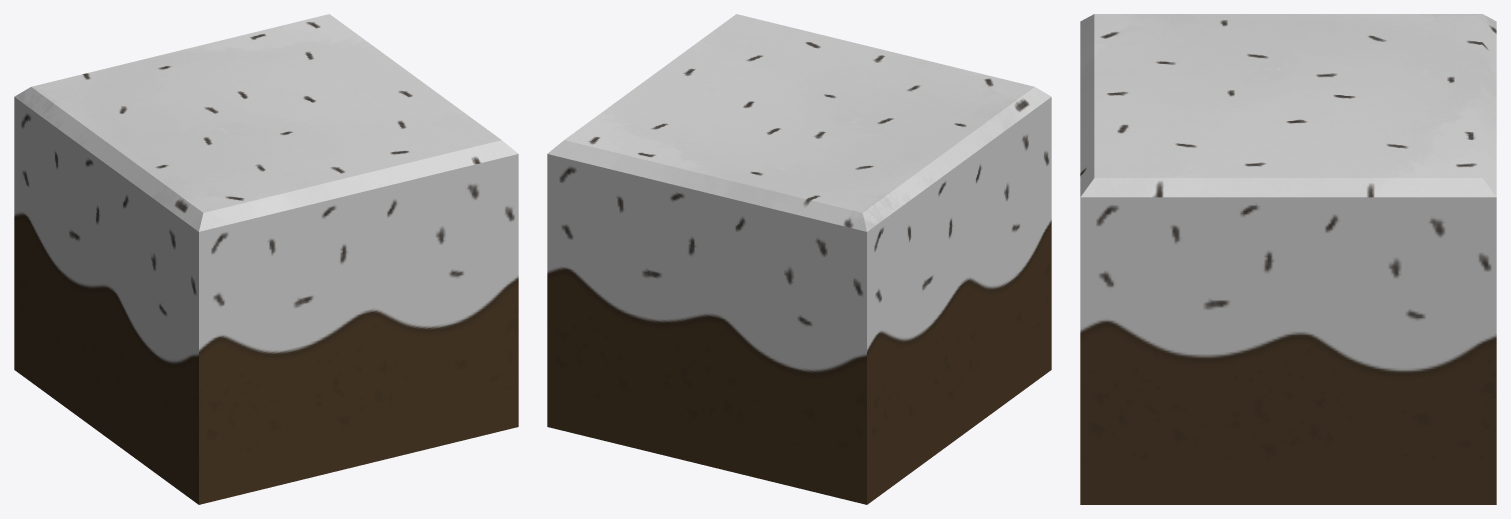
The model's file is cake_brownie.fbx.
3 renders of one model, left to right at view 1: azimuth 30°, elevation 25°; view 2: azimuth 150°, elevation 25°; view 3: azimuth 270°, elevation 25°, orthographic. The views are drawn at different scales.
Visible parts, largest first — view 1: cake_brownie; view 2: cake_brownie; view 3: cake_brownie.
Boxes of the visible parts, left/top/right/bottom form: cake_brownie: left=14, top=14, right=518, bottom=504; cake_brownie: left=547, top=14, right=1051, bottom=504; cake_brownie: left=1080, top=14, right=1496, bottom=504.
Size of the model in its own units: 9.8 by 8.34 by 9.8.
